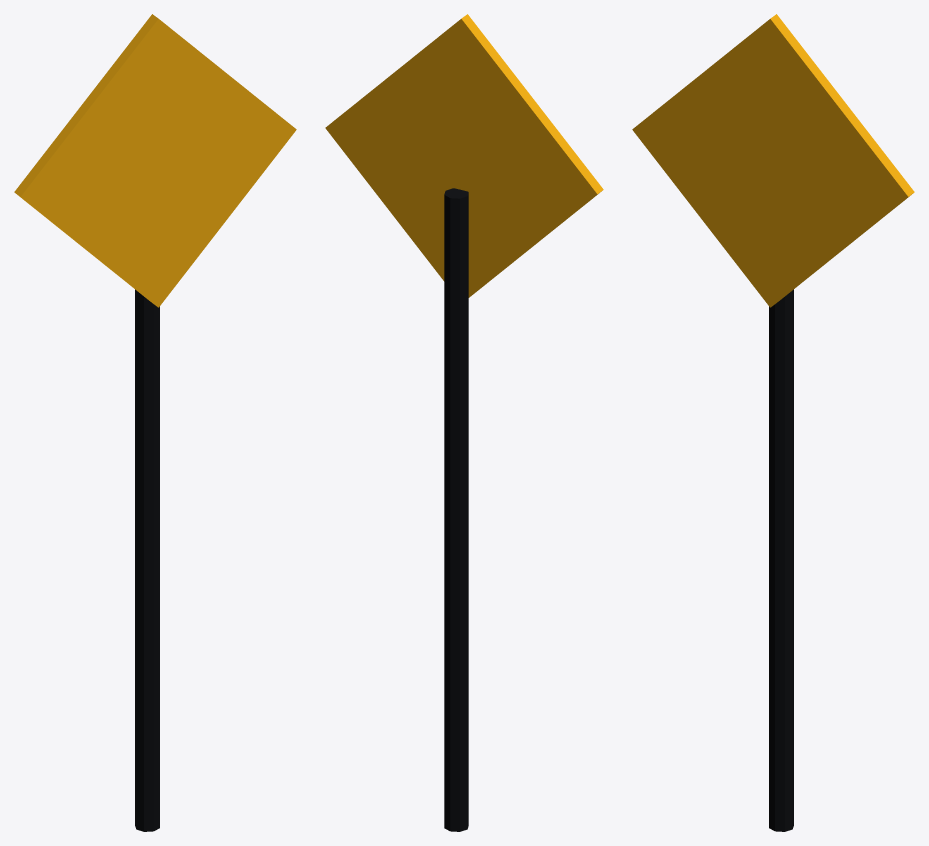
File: yield_sign.obj
3 views of the same model, side by side, from view 1: azimuth 30°, elevation 25°; view 2: azimuth 150°, elevation 25°; view 3: azimuth 330°, elevation 25° (orthographic).
Parts seen in each view (by area): view 1: yield_sign; view 2: yield_sign; view 3: yield_sign.
Part boxes in pixels (x1,y1,x2,y2): yield_sign: [14, 14, 296, 831]; yield_sign: [325, 14, 603, 831]; yield_sign: [632, 14, 914, 831].
Size of the model in its own units: 0.99 by 2.79 by 0.11.
